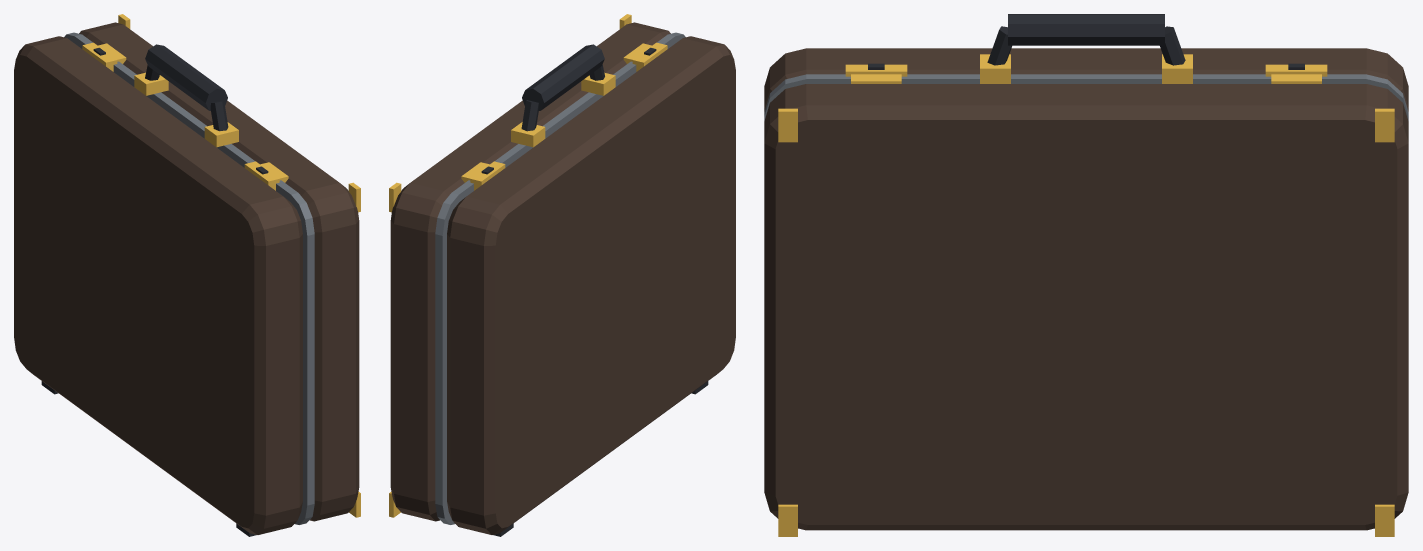
The model's file is briefcase.glb.
The picture shows the model from 3 angles, left to right: view 1: azimuth 30°, elevation 25°; view 2: azimuth 150°, elevation 25°; view 3: azimuth 270°, elevation 25°; orthographic projection. The views are drawn at different scales.
Visible parts, largest first — view 1: briefcase_mesh, LID; view 2: briefcase_mesh, LID; view 3: LID, briefcase_mesh.
Part boxes in pixels (left/top/right/bottom): briefcase_mesh: left=14, top=33, right=310, bottom=536; LID: left=71, top=14, right=360, bottom=523; briefcase_mesh: left=439, top=33, right=735, bottom=536; LID: left=389, top=14, right=678, bottom=523; LID: left=764, top=74, right=1408, bottom=536; briefcase_mesh: left=764, top=14, right=1408, bottom=113.
Size of the model in its own units: 0.115 by 0.3938 by 0.46.
1 material, 1 textured.
